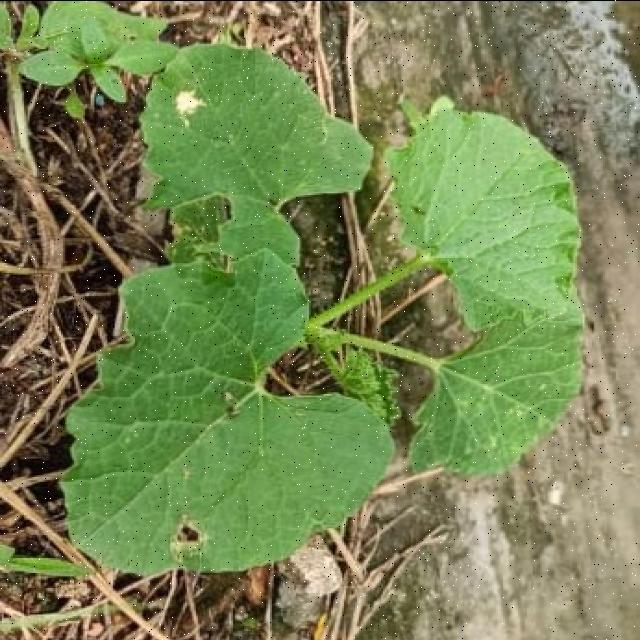plant: (63, 44, 582, 572)
